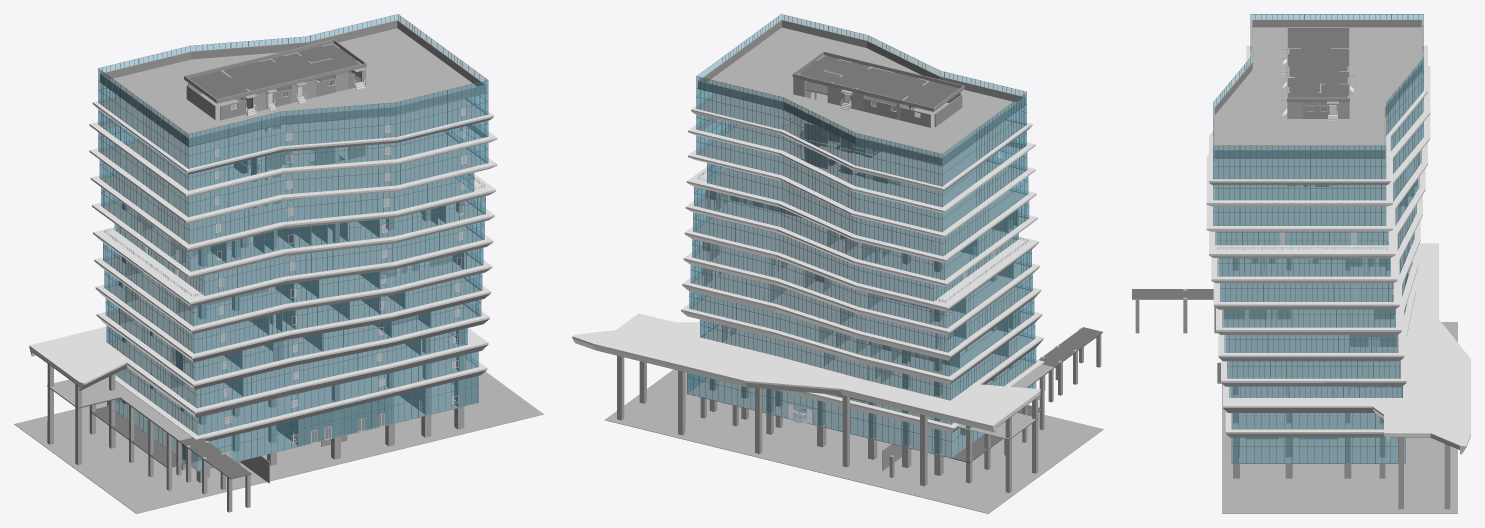
Rendered from 2ALL.glb.
3 renders of one model, left to right at view 1: azimuth 30°, elevation 25°; view 2: azimuth 150°, elevation 25°; view 3: azimuth 270°, elevation 25°, orthographic. The views are drawn at different scales.
Visible parts, largest first — view 1: 合并后mesh12, 合并后mesh3, 合并后mesh1, 合并后mesh4, 合并后mesh13, 合并后mesh6, 合并后mesh5, 合并后mesh11; view 2: 合并后mesh12, 合并后mesh3, 合并后mesh1, 合并后mesh4, 合并后mesh13, 合并后mesh6, 合并后mesh5, 合并后mesh11; view 3: 合并后mesh12, 合并后mesh3, 合并后mesh1, 合并后mesh4, 合并后mesh5, 合并后mesh13, 合并后mesh6, 合并后mesh11.
Part boxes in pixels (<box>): 合并后mesh12: <box>14,28,543,513</box>; 合并后mesh3: <box>98,14,487,470</box>; 合并后mesh1: <box>29,96,497,441</box>; 合并后mesh4: <box>98,14,488,470</box>; 合并后mesh13: <box>100,20,486,483</box>; 合并后mesh6: <box>47,43,464,512</box>; 合并后mesh5: <box>32,44,466,479</box>; 合并后mesh11: <box>104,77,484,457</box>; 合并后mesh12: <box>605,27,1103,513</box>; 合并后mesh3: <box>687,14,1036,457</box>; 合并后mesh1: <box>572,93,1044,432</box>; 合并后mesh4: <box>687,14,1035,458</box>; 合并后mesh13: <box>698,19,1025,470</box>; 合并后mesh6: <box>617,55,1101,492</box>; 合并后mesh5: <box>698,56,1102,462</box>; 合并后mesh11: <box>697,92,1028,424</box>; 合并后mesh12: <box>1214,27,1457,513</box>; 合并后mesh3: <box>1213,14,1423,462</box>; 合并后mesh1: <box>1206,45,1470,454</box>; 合并后mesh4: <box>1213,14,1423,463</box>; 合并后mesh5: <box>1132,31,1459,449</box>; 合并后mesh13: <box>1214,19,1422,383</box>; 合并后mesh6: <box>1135,48,1450,509</box>; 合并后mesh11: <box>1217,53,1399,460</box>.
Bounding box in the file's own units: 104 × 82.2 × 72.47.
